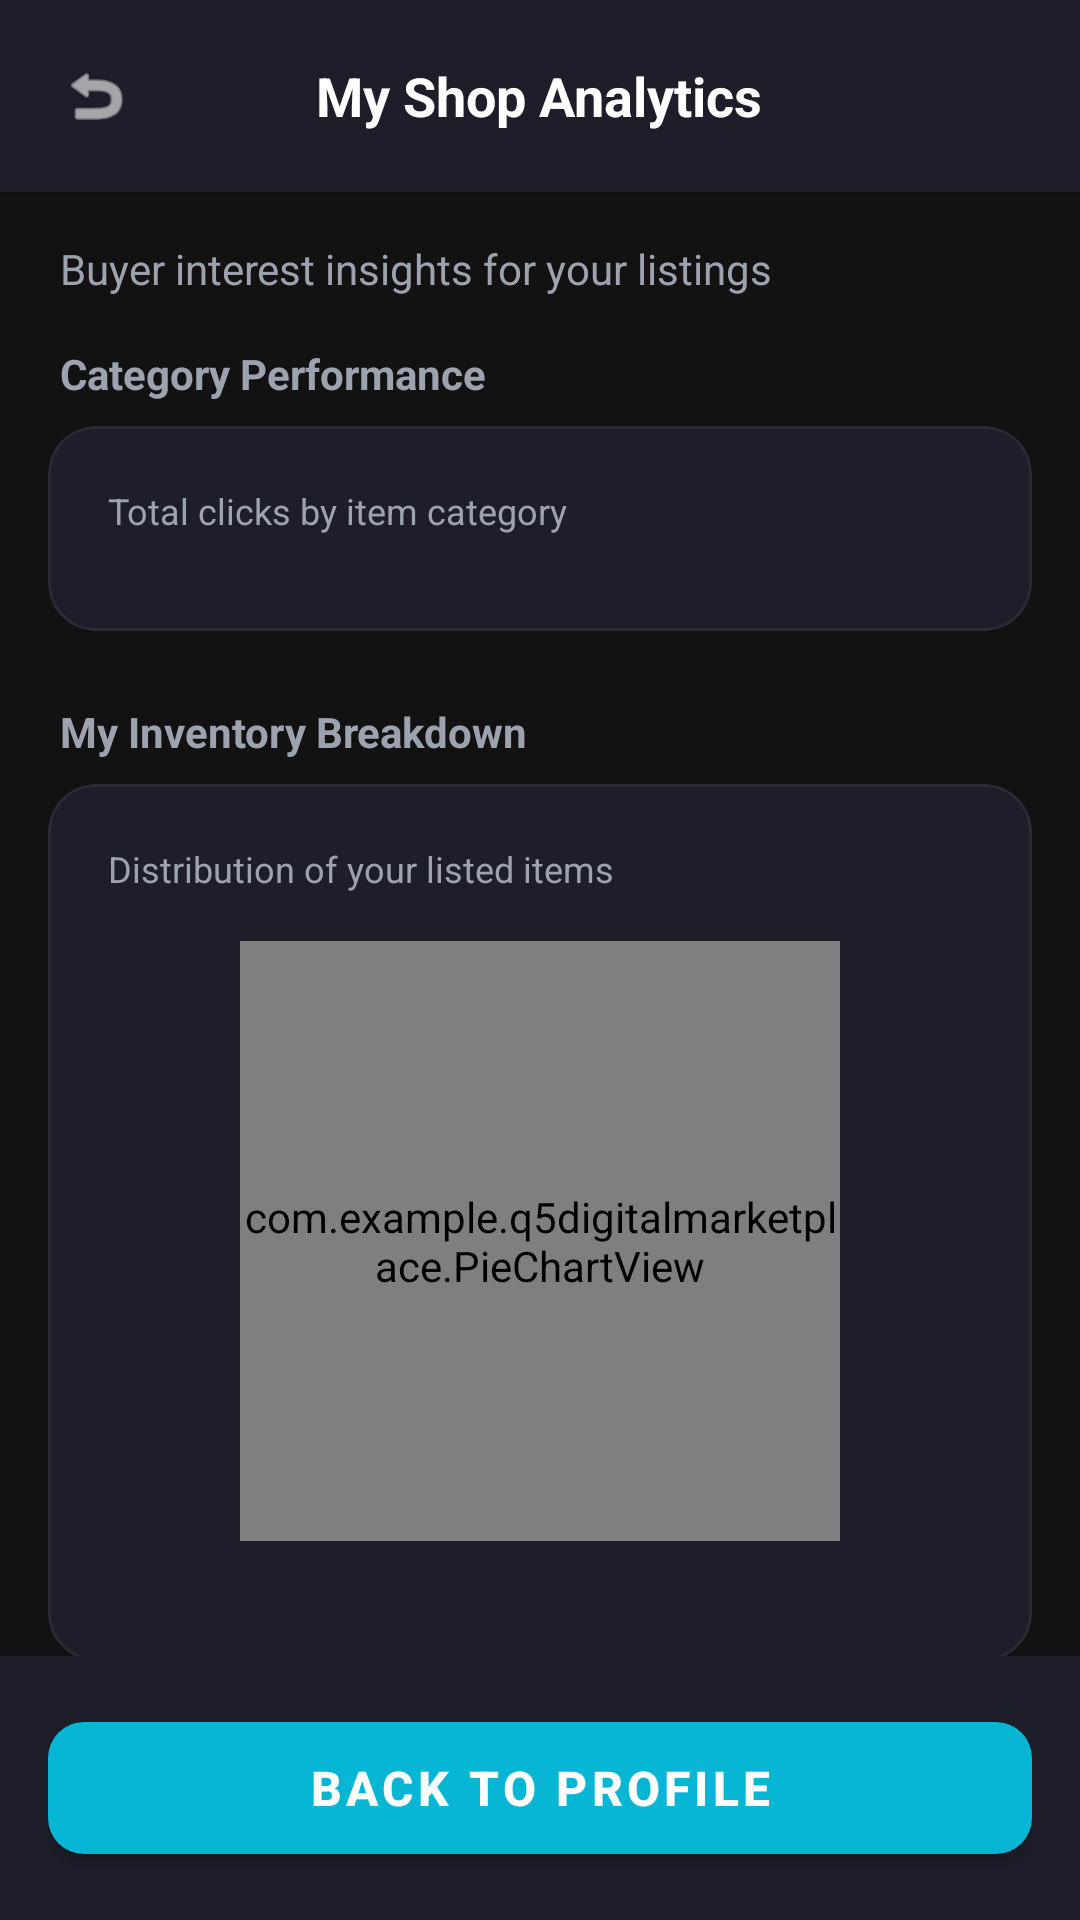

Locate icon controls on the screen. Image size 1080w x 1920h, boxes as (x1, y1, x2, y2).
Back: (71, 73, 123, 120)
